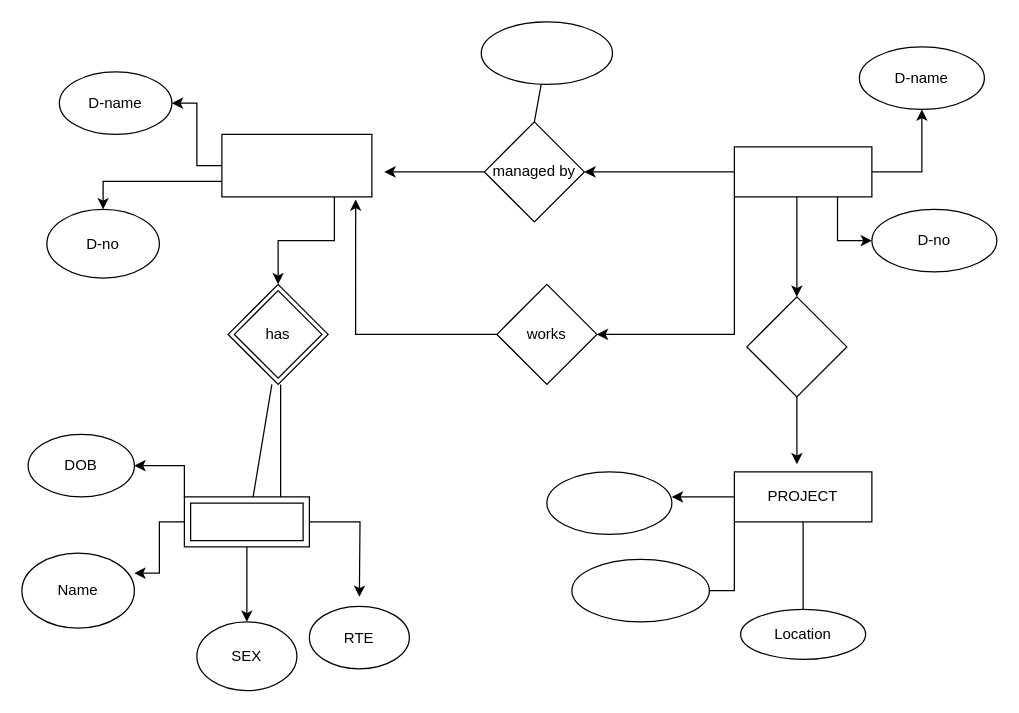
Image size: 1019x713. Some labels were removed from this diagram. The shapes that lost their labels are listed below. From the top down, each one's box as (x1, y1, x2, y2) in pixels, then its label:
(480, 21, 612, 84): M-start-date
(221, 133, 372, 197): EMPLOYEE
(733, 146, 872, 197): DEPARTMENT
(746, 296, 847, 397): CONTROL
(183, 496, 309, 547): DEPENDEDNT
(546, 471, 672, 534): P-name
(571, 558, 709, 622): P-no
